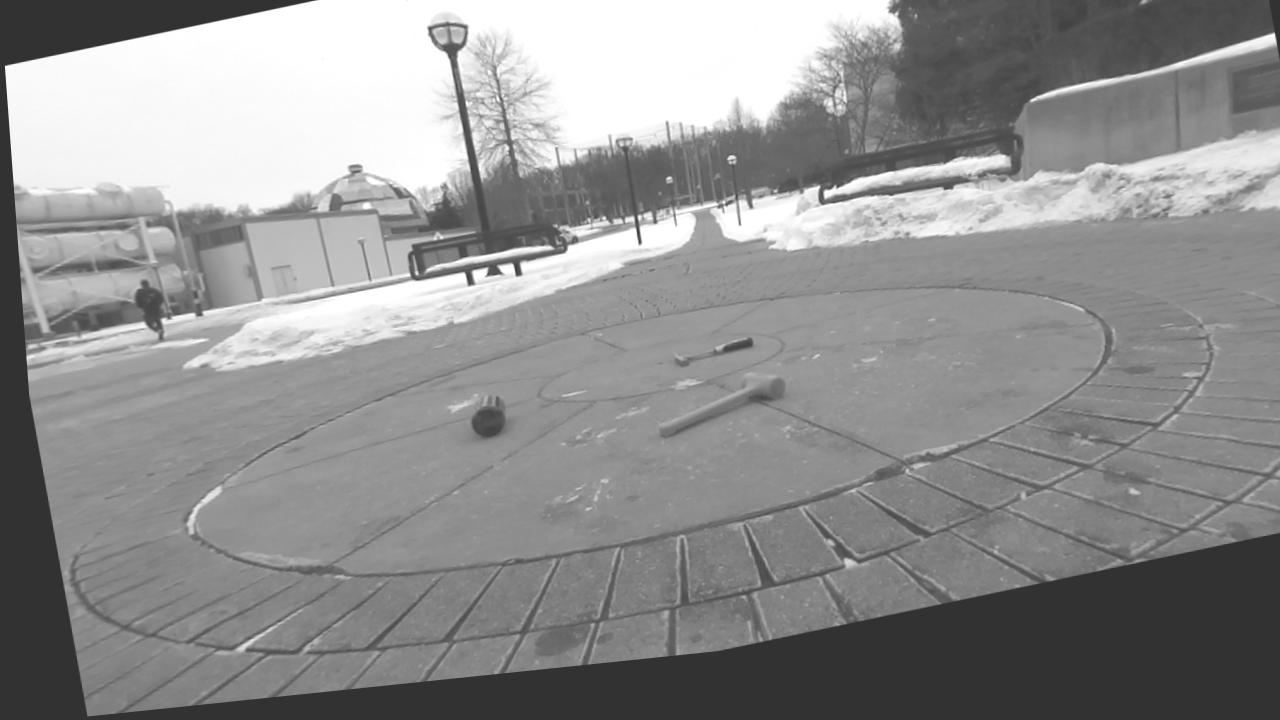bottle: (471, 394, 505, 434)
mallet: (659, 373, 785, 435)
pick: (674, 336, 753, 365)
